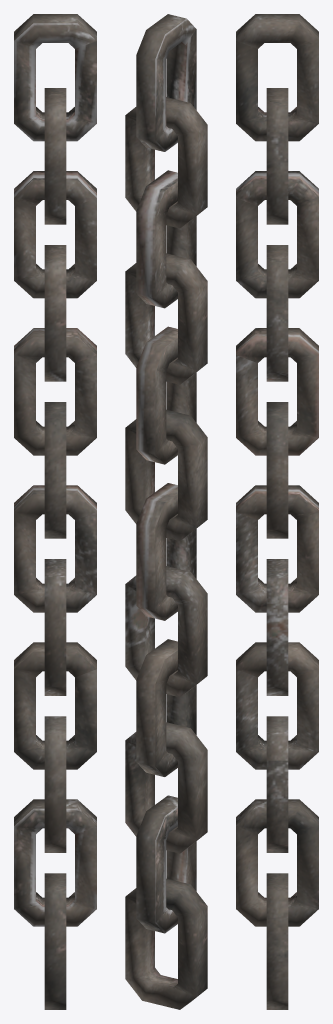
Rendered from SM_Chain01.FBX.
3 renders of one model, left to right at view 1: azimuth 90°, elevation 25°; view 2: azimuth 150°, elevation 25°; view 3: azimuth 270°, elevation 25°, orthographic.
Visible parts, largest first — view 1: SM_Chain01; view 2: SM_Chain01; view 3: SM_Chain01.
Part boxes in pixels (bbox=[...]): SM_Chain01: bbox=[14, 14, 96, 1009]; SM_Chain01: bbox=[125, 14, 207, 1009]; SM_Chain01: bbox=[236, 14, 318, 1009].
Size of the model in its own units: 8.21 by 8.21 by 107.
